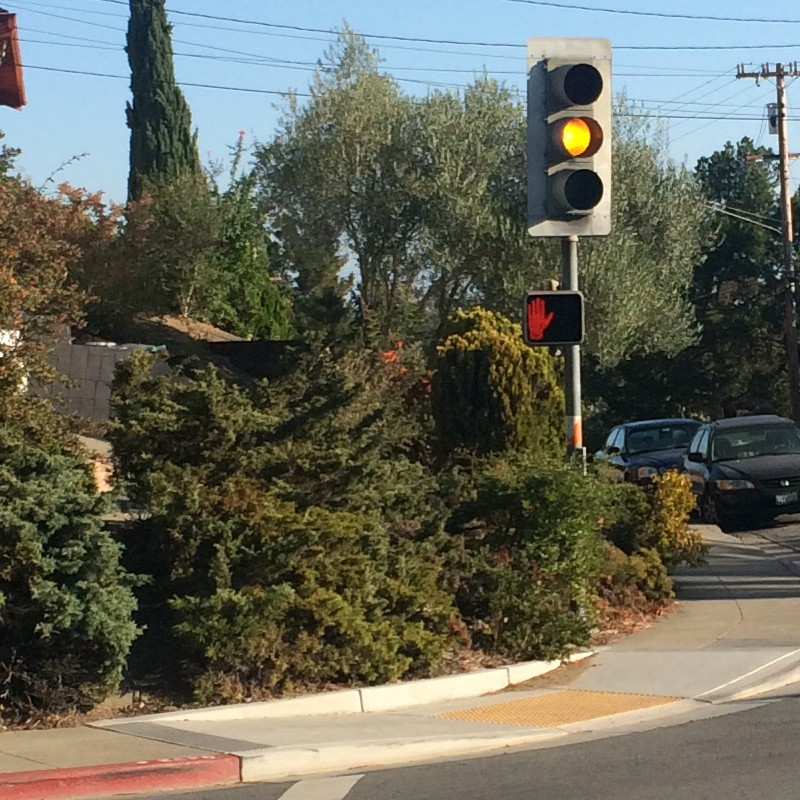stop: (516, 291, 589, 347)
